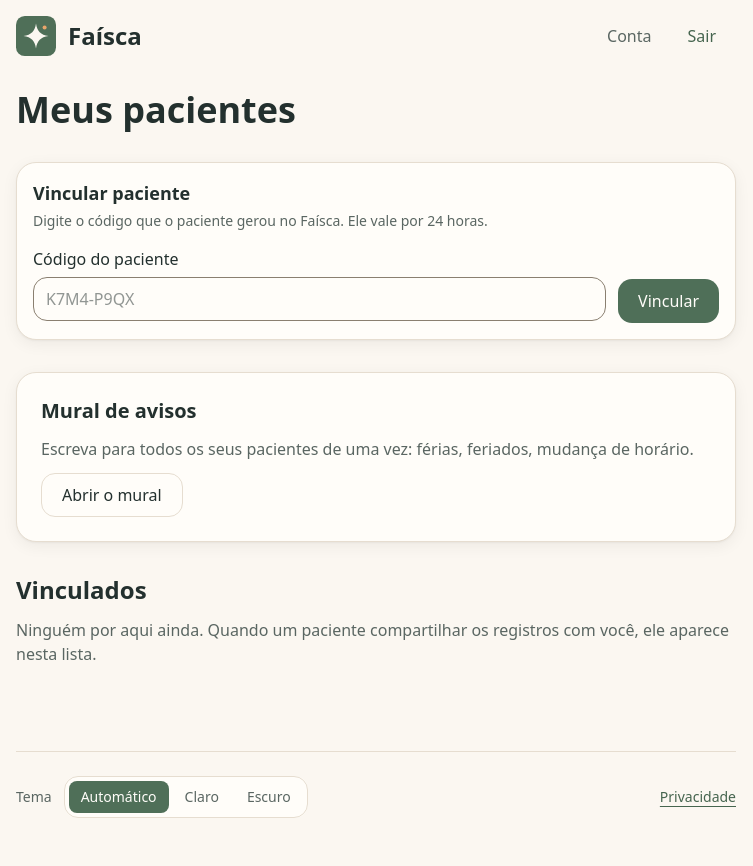
Test: /pacientes › digita o código, vincula e o paciente entra na lista
Type "k7m4-p9qx" into the field labelled "Código do paciente" at (320, 299), box x1=33 y1=277 x2=606 y2=321
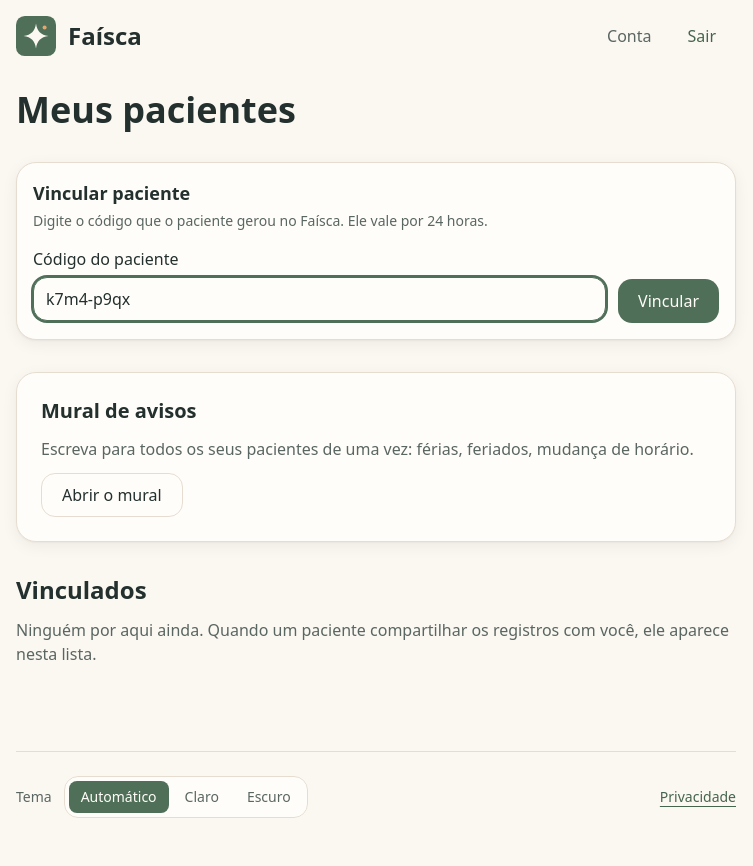
Click the button "Vincular" at (669, 301), box x1=618 y1=279 x2=719 y2=323
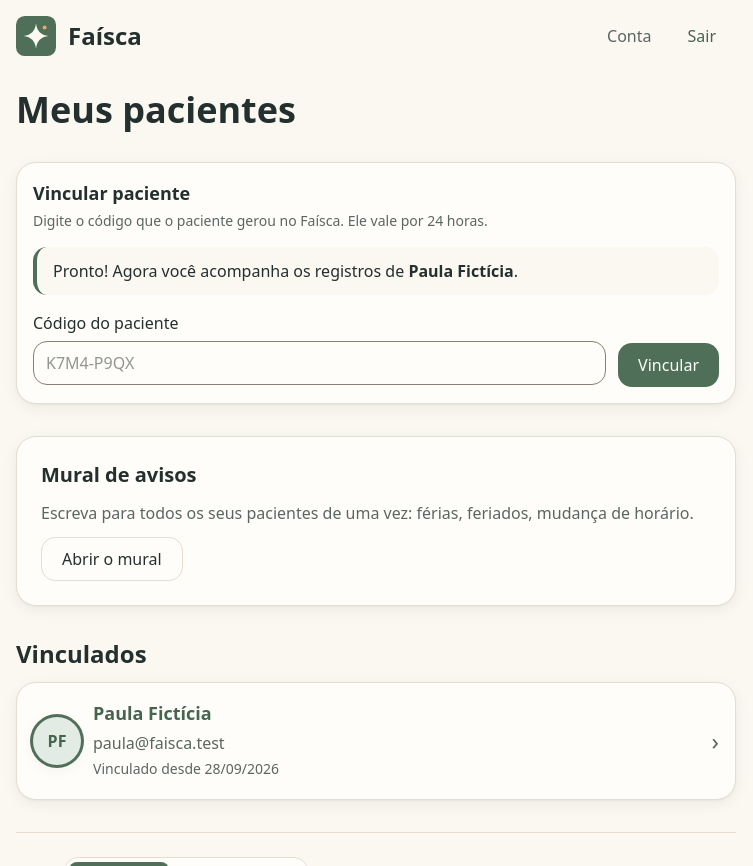
expect the text "Pronto! Agora você acompanha os registros de Paula Fictícia." is shown: met, box x1=33 y1=247 x2=719 y2=295
expect the list item shows "Paula Fictícia": met, box x1=16 y1=682 x2=736 y2=800
expect the field labelled "Código do paciente" is empty: met, box x1=33 y1=341 x2=606 y2=385
